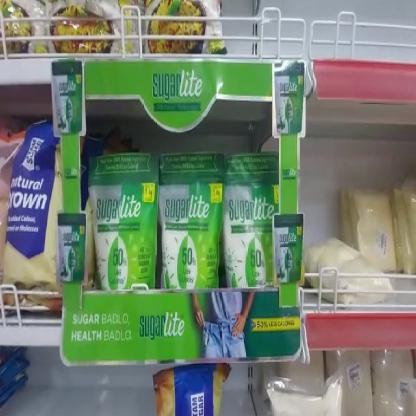SUGARLITE POUCH 500G: (94, 162, 162, 288), (160, 158, 220, 288), (220, 156, 278, 287)
